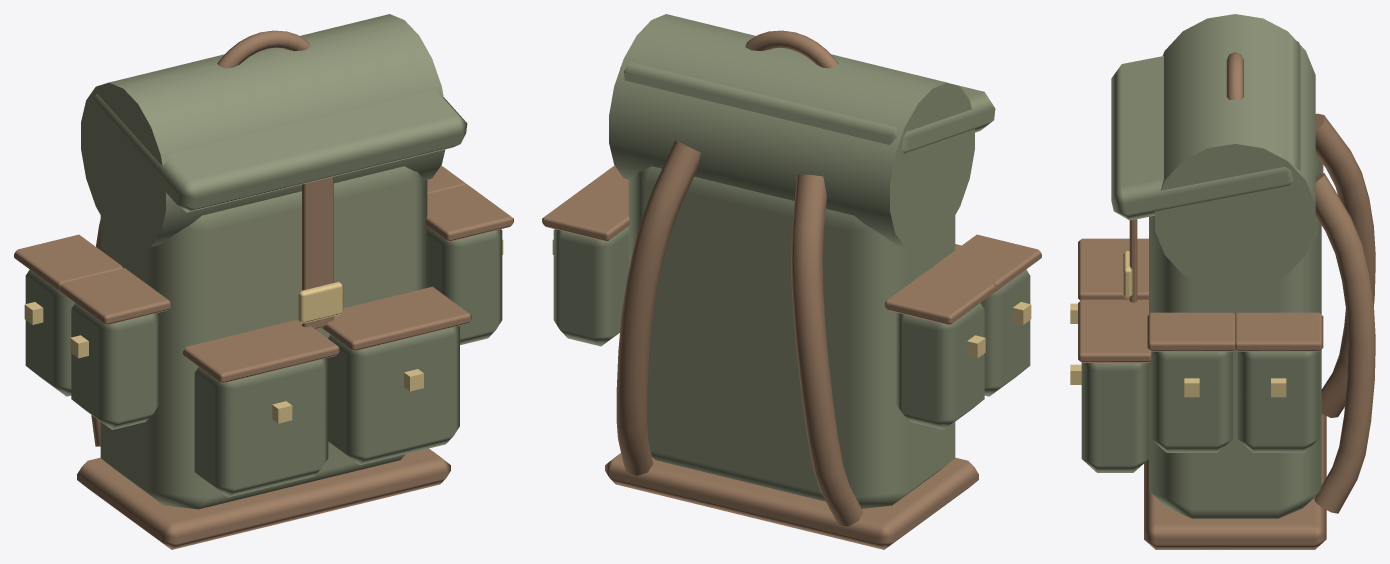
Rendered from item-hal-backpack.glb.
3 views of the same model, side by side, from view 1: azimuth 30°, elevation 25°; view 2: azimuth 150°, elevation 25°; view 3: azimuth 270°, elevation 25° (orthographic). The views are drawn at different scales.
Bounding box in the file's own units: 0.484 × 0.494 × 0.3184.
